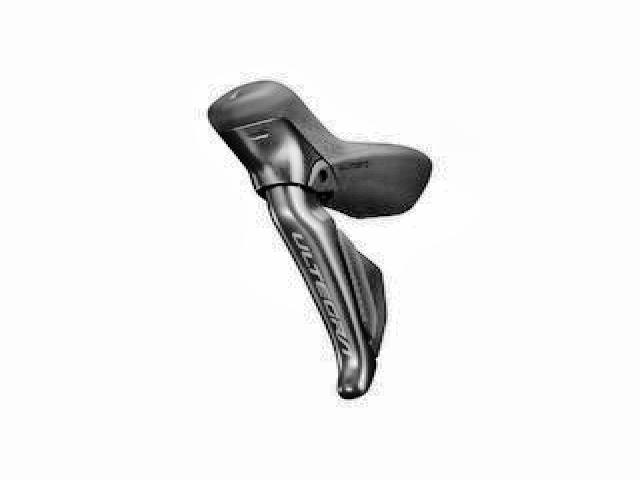sti_shifter: (204, 75, 432, 401)
